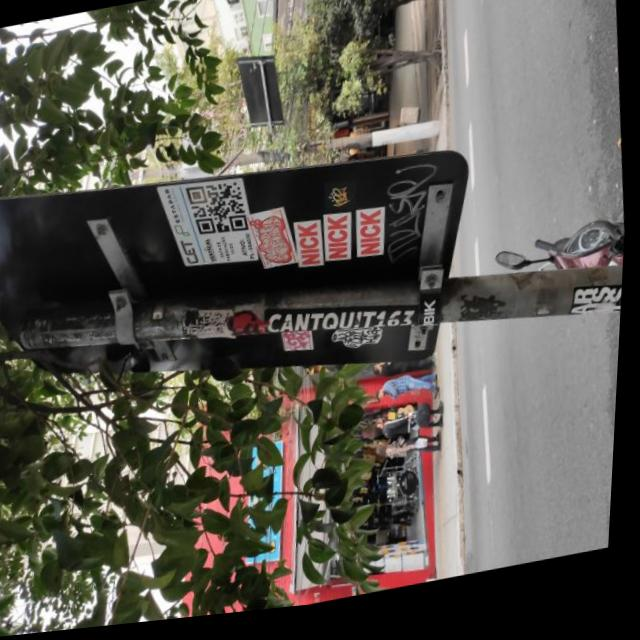qrcode: (187, 182, 255, 245)
